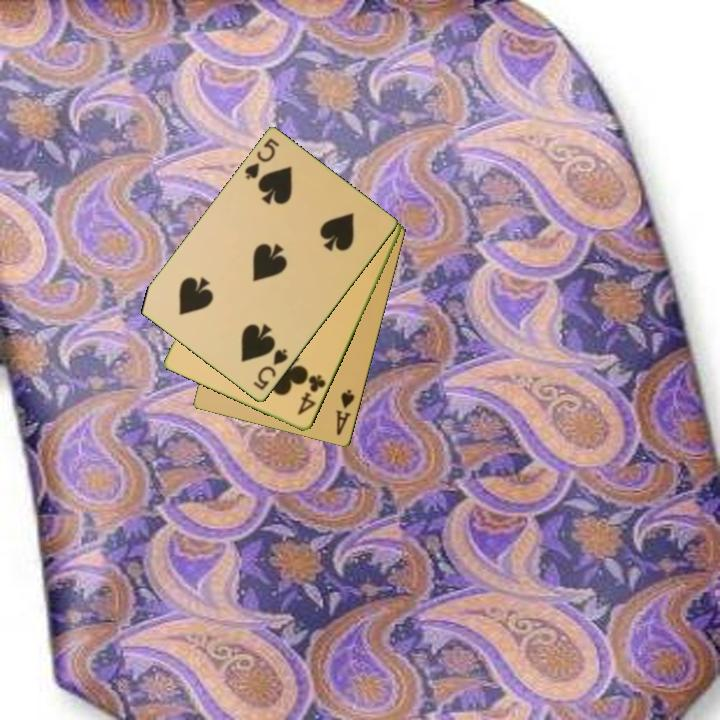4c: (294, 371, 329, 418)
5s: (250, 345, 291, 393), (241, 135, 282, 183)
As: (332, 386, 358, 438)
